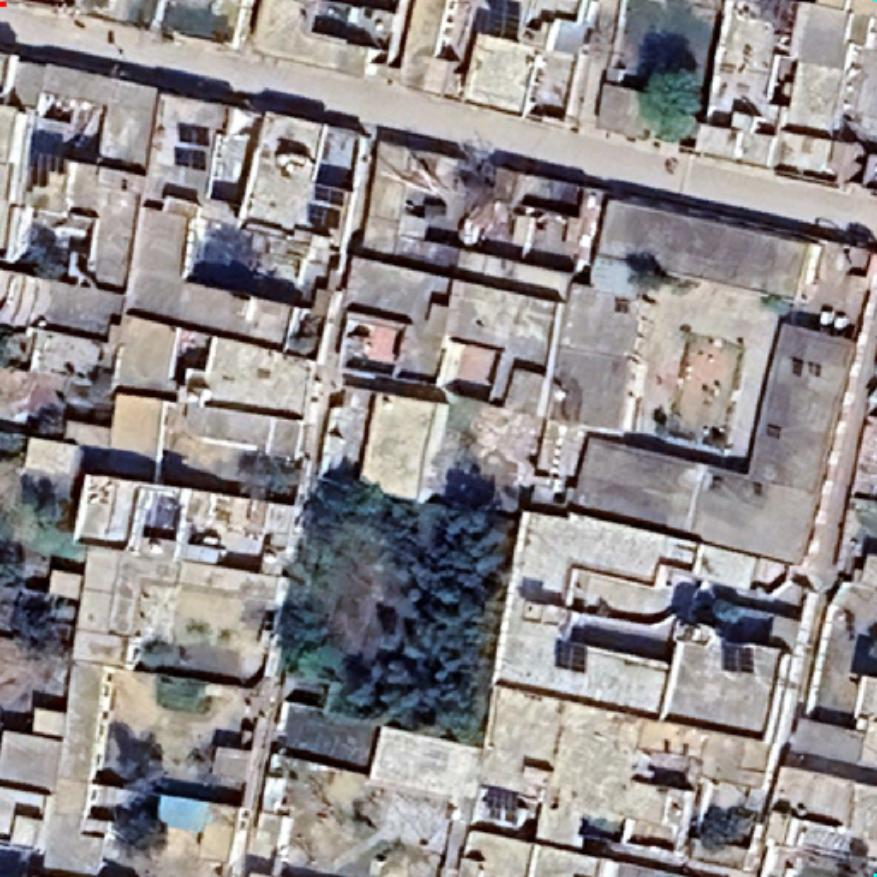Solarpanel: (472, 0, 526, 44), (478, 781, 526, 827), (551, 634, 591, 676), (718, 640, 758, 678), (303, 200, 343, 232), (171, 143, 211, 173), (172, 118, 212, 148), (310, 180, 348, 208)
